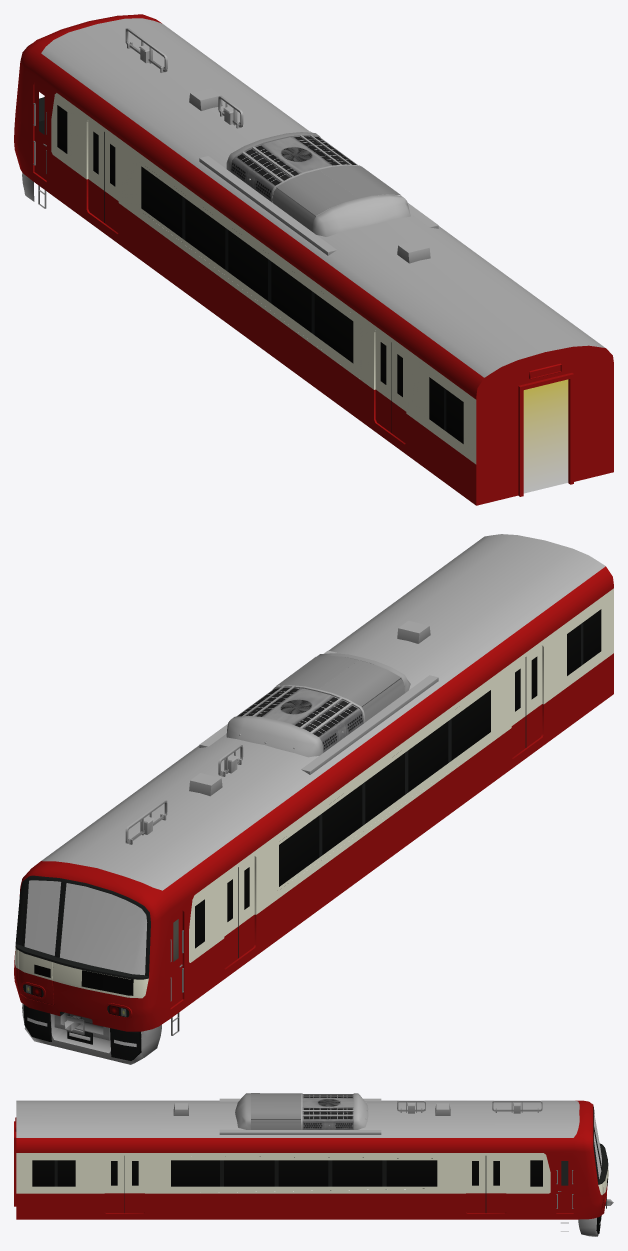
3 views of the same model, one above another, from view 1: azimuth 30°, elevation 25°; view 2: azimuth 150°, elevation 25°; view 3: azimuth 270°, elevation 25° (orthographic). The views are drawn at different scales.
Parts seen in each view (by area): view 1: obj10; view 2: obj10; view 3: obj10.
Part boxes in pixels (bbox=[...]): obj10: bbox=[14, 14, 613, 505]; obj10: bbox=[14, 534, 613, 1064]; obj10: bbox=[14, 1093, 613, 1236].
Bounding box in the file's own units: 6.5 × 8.69 × 39.05.
Materials: 22 (21 with a texture image).
